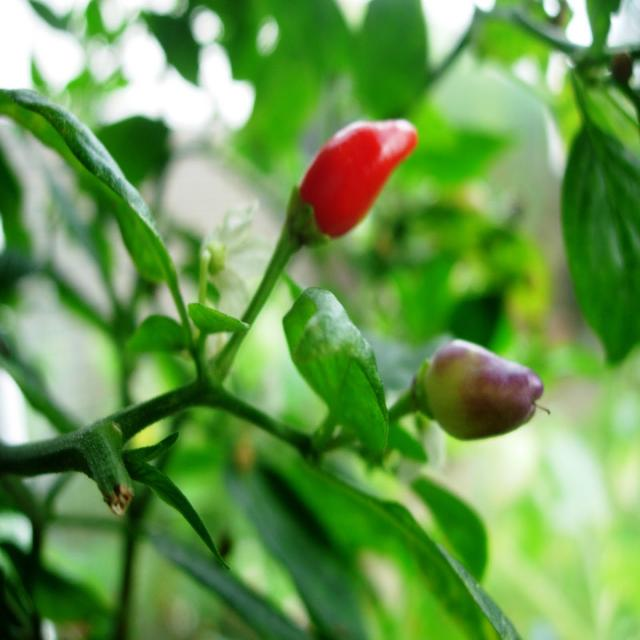Chilli Pepper: (265, 270, 400, 496), (364, 329, 564, 453), (278, 121, 414, 272)
